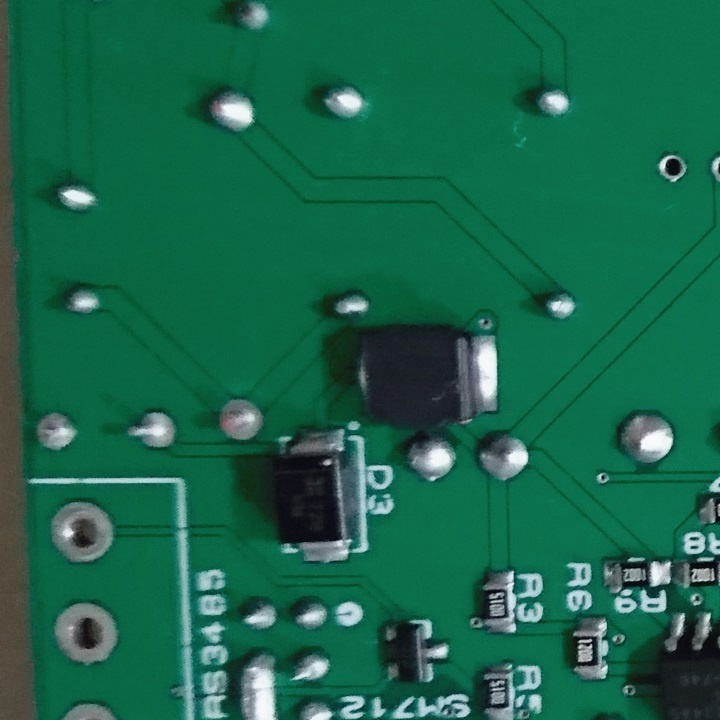F: (44, 498, 119, 566), (48, 602, 121, 667), (214, 394, 267, 445), (124, 406, 178, 452), (33, 407, 83, 455), (655, 150, 687, 187)
P: (232, 652, 287, 720)
